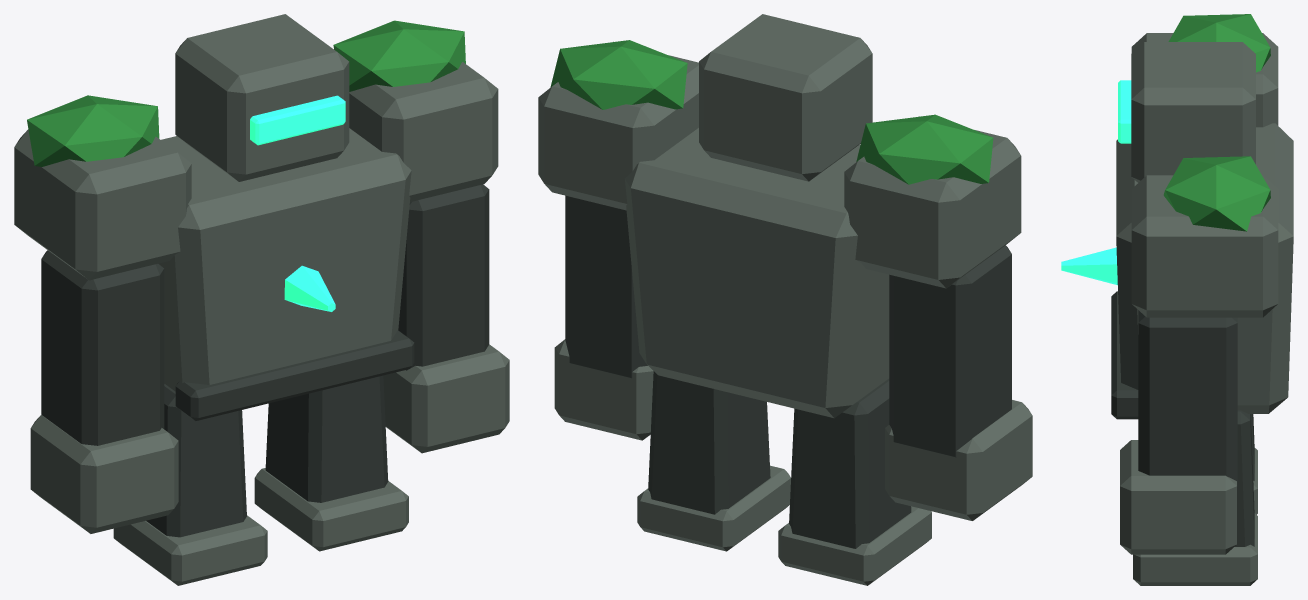
Rendered from EM_Mob_RuinSentinel.glb.
3 renders of one model, left to right at view 1: azimuth 30°, elevation 25°; view 2: azimuth 150°, elevation 25°; view 3: azimuth 270°, elevation 25°, orthographic. The views are drawn at different scales.
Visible parts, largest first — view 1: RuinSentinel__Arms__StoneBase, RuinSentinel__Body__StoneBase, RuinSentinel__Arms__StoneDark, RuinSentinel__Legs__StoneDark, RuinSentinel__Head__StoneBase, RuinSentinel__Arms__MossLeaf, RuinSentinel__Legs__StoneBase, RuinSentinel__Body__StoneDark, RuinSentinel__Head__JadeGlow, RuinSentinel__Body__JadeGlow; view 2: RuinSentinel__Body__StoneBase, RuinSentinel__Arms__StoneBase, RuinSentinel__Arms__StoneDark, RuinSentinel__Legs__StoneDark, RuinSentinel__Head__StoneBase, RuinSentinel__Arms__MossLeaf, RuinSentinel__Legs__StoneBase; view 3: RuinSentinel__Arms__StoneBase, RuinSentinel__Arms__StoneDark, RuinSentinel__Head__StoneBase, RuinSentinel__Body__StoneBase, RuinSentinel__Arms__MossLeaf, RuinSentinel__Legs__StoneBase, RuinSentinel__Legs__StoneDark, RuinSentinel__Body__StoneDark, RuinSentinel__Body__JadeGlow, RuinSentinel__Head__JadeGlow.
Boxes of the visible parts, x1,y1,x2,y2 form: RuinSentinel__Arms__StoneBase: (14, 62, 509, 533); RuinSentinel__Body__StoneBase: (158, 128, 411, 391); RuinSentinel__Arms__StoneDark: (41, 184, 489, 445); RuinSentinel__Legs__StoneDark: (146, 375, 388, 537); RuinSentinel__Head__StoneBase: (175, 14, 349, 181); RuinSentinel__Arms__MossLeaf: (27, 20, 465, 166); RuinSentinel__Legs__StoneBase: (113, 468, 408, 585); RuinSentinel__Body__StoneDark: (175, 330, 414, 420); RuinSentinel__Head__JadeGlow: (250, 95, 345, 145); RuinSentinel__Body__JadeGlow: (284, 265, 335, 311); RuinSentinel__Body__StoneBase: (625, 128, 889, 418); RuinSentinel__Arms__StoneBase: (538, 41, 1032, 520); RuinSentinel__Arms__StoneDark: (565, 195, 1011, 457); RuinSentinel__Legs__StoneDark: (648, 371, 911, 548); RuinSentinel__Head__StoneBase: (699, 14, 872, 181); RuinSentinel__Arms__MossLeaf: (550, 40, 993, 184); RuinSentinel__Legs__StoneBase: (637, 465, 931, 585); RuinSentinel__Arms__StoneBase: (1120, 33, 1278, 554); RuinSentinel__Arms__StoneDark: (1138, 310, 1237, 486); RuinSentinel__Head__StoneBase: (1131, 42, 1255, 182); RuinSentinel__Body__StoneBase: (1116, 123, 1293, 413); RuinSentinel__Arms__MossLeaf: (1163, 14, 1270, 231); RuinSentinel__Legs__StoneBase: (1133, 448, 1257, 585); RuinSentinel__Legs__StoneDark: (1234, 410, 1254, 546); RuinSentinel__Body__StoneDark: (1111, 291, 1138, 419); RuinSentinel__Body__JadeGlow: (1061, 247, 1117, 285); RuinSentinel__Head__JadeGlow: (1118, 80, 1131, 143).
Size of the model in its own units: 5.48 by 6 by 2.69.
